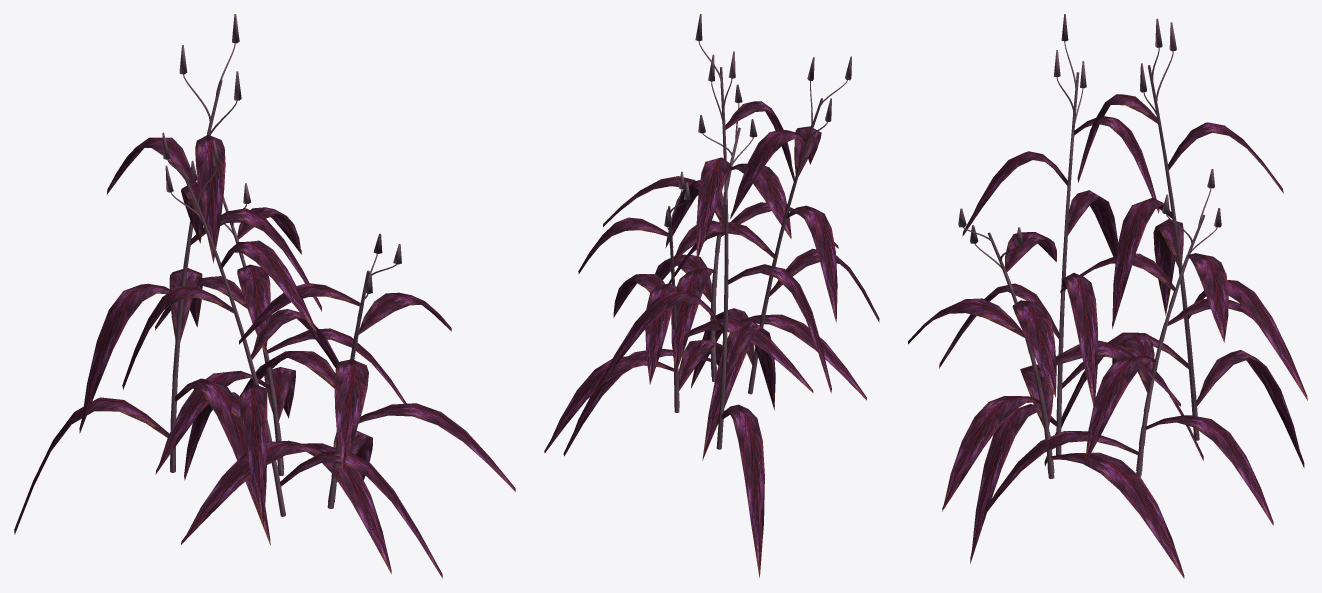
The model's file is finegrass_05.glb.
The picture shows the model from 3 angles, left to right: view 1: azimuth 30°, elevation 25°; view 2: azimuth 150°, elevation 25°; view 3: azimuth 270°, elevation 25°; orthographic projection. The views are drawn at different scales.
Visible parts, largest first — view 1: export; view 2: export; view 3: export.
Part boxes in pixels (x1=…): export: x1=14, y1=14, x2=515, y2=578; export: x1=544, y1=14, x2=879, y2=577; export: x1=908, y1=14, x2=1307, y2=578.
Size of the model in its own units: 1.03 by 1.67 by 1.17.
2 materials, 2 textured.
